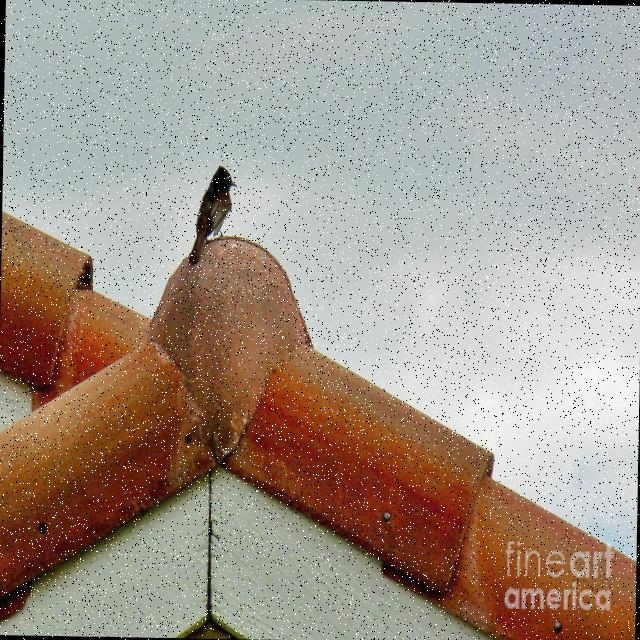bird: (188, 163, 238, 264)
